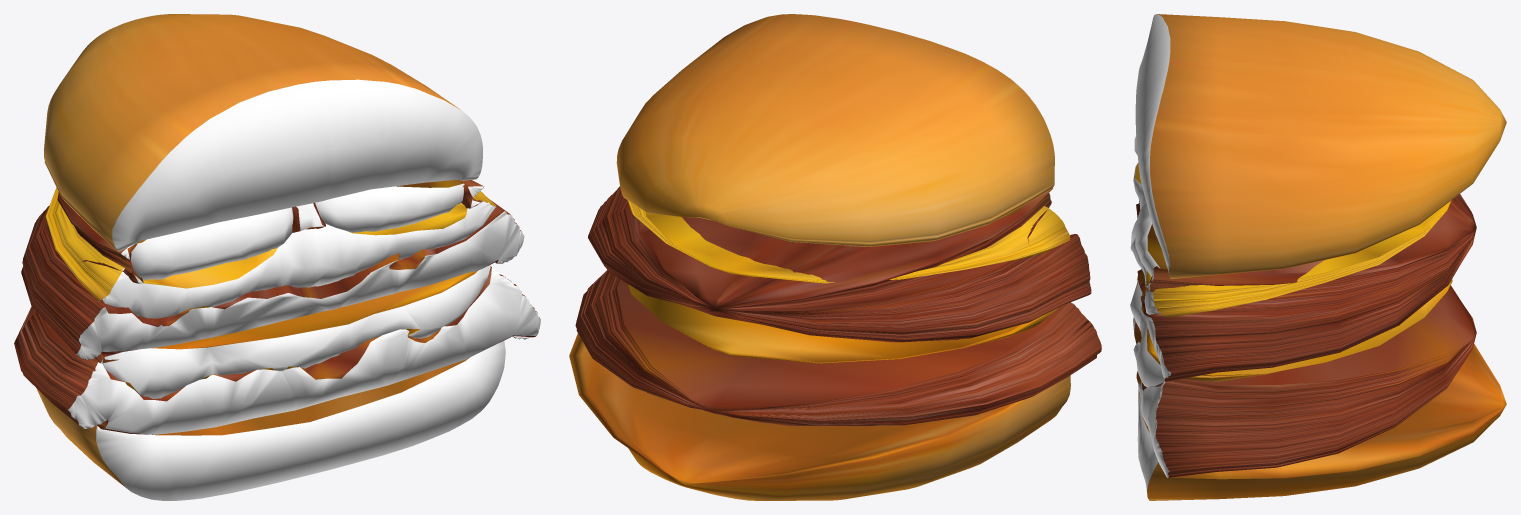
Rendered from classic-smash-burger-doppio.glb.
The picture shows the model from 3 angles, left to right: view 1: azimuth 30°, elevation 25°; view 2: azimuth 150°, elevation 25°; view 3: azimuth 270°, elevation 25°; orthographic projection.
Visible parts, largest first — view 1: ingredient_00_top_bun_solid, ingredient_06_bottom_bun_solid, ingredient_05_lower_smash_solid, ingredient_03_top_smash_solid, ingredient_02_top_cheddar_solid, ingredient_04_lower_cheddar_solid, ingredient_01_pickles_solid; view 2: ingredient_00_top_bun_solid, ingredient_03_top_smash_solid, ingredient_05_lower_smash_solid, ingredient_06_bottom_bun_solid, ingredient_04_lower_cheddar_solid, ingredient_02_top_cheddar_solid; view 3: ingredient_00_top_bun_solid, ingredient_05_lower_smash_solid, ingredient_03_top_smash_solid, ingredient_06_bottom_bun_solid, ingredient_02_top_cheddar_solid, ingredient_04_lower_cheddar_solid, ingredient_01_pickles_solid.
Boxes of the visible parts, box(x1,y1,x2,y2) form: ingredient_00_top_bun_solid: box(44, 14, 482, 251); ingredient_06_bottom_bun_solid: box(36, 336, 529, 500); ingredient_05_lower_smash_solid: box(14, 266, 540, 434); ingredient_03_top_smash_solid: box(21, 180, 524, 363); ingredient_02_top_cheddar_solid: box(45, 187, 496, 318); ingredient_04_lower_cheddar_solid: box(94, 265, 490, 398); ingredient_01_pickles_solid: box(115, 179, 464, 280); ingredient_00_top_bun_solid: box(616, 14, 1054, 246); ingredient_03_top_smash_solid: box(588, 186, 1091, 342); ingredient_05_lower_smash_solid: box(575, 270, 1101, 425); ingredient_06_bottom_bun_solid: box(569, 333, 1070, 500); ingredient_04_lower_cheddar_solid: box(628, 284, 1058, 363); ingredient_02_top_cheddar_solid: box(627, 200, 1070, 283); ingredient_00_top_bun_solid: box(1135, 14, 1506, 278); ingredient_05_lower_smash_solid: box(1133, 280, 1476, 477); ingredient_03_top_smash_solid: box(1136, 194, 1476, 381); ingredient_06_bottom_bun_solid: box(1137, 344, 1506, 500); ingredient_02_top_cheddar_solid: box(1130, 163, 1451, 317); ingredient_04_lower_cheddar_solid: box(1130, 279, 1452, 387); ingredient_01_pickles_solid: box(1134, 135, 1167, 276).
Bounding box in the file's own units: 1.82 × 1.45 × 1.25.
